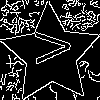V: (26, 29, 71, 65)
